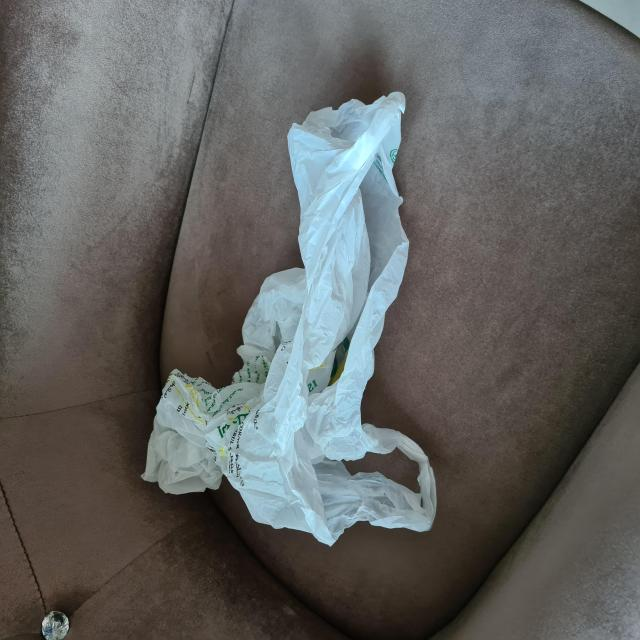plastic bag: (135, 86, 437, 552)
